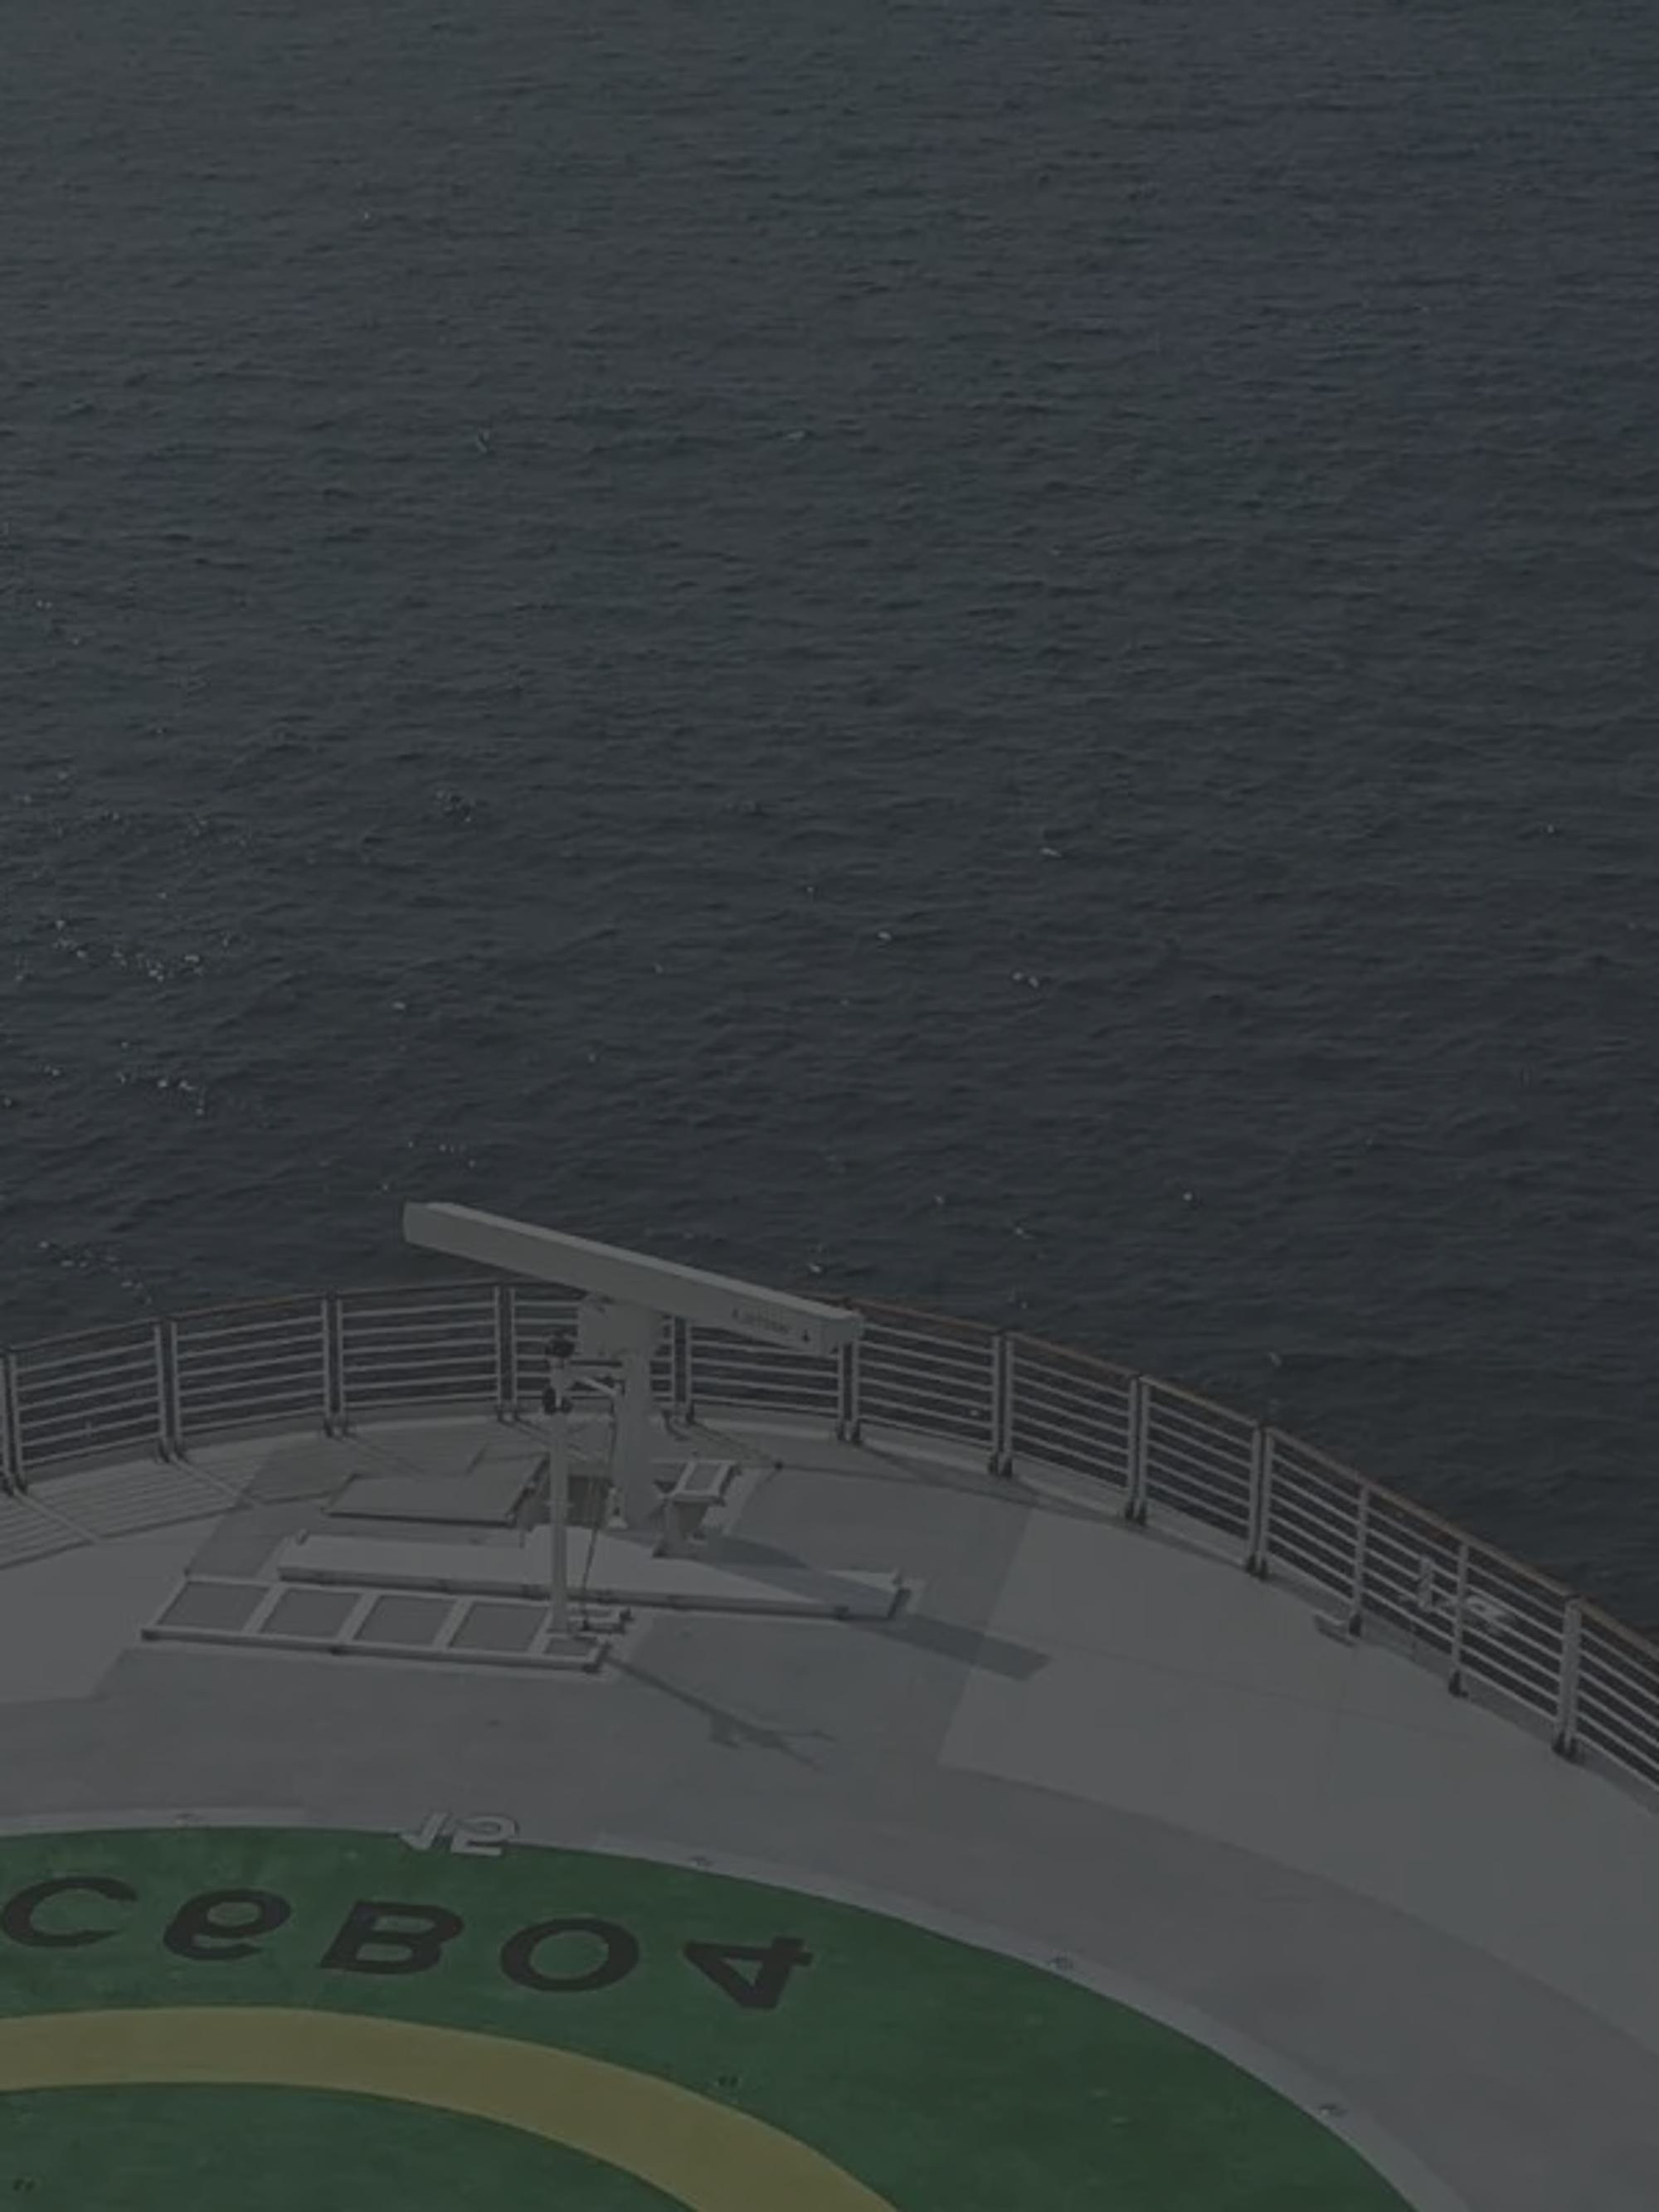Apron: (10, 1951, 955, 2212)
